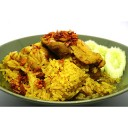briyani: (3, 39, 102, 99)
